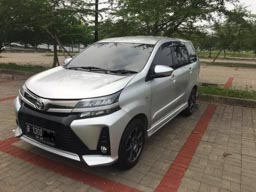plat: (25, 124, 54, 145)
